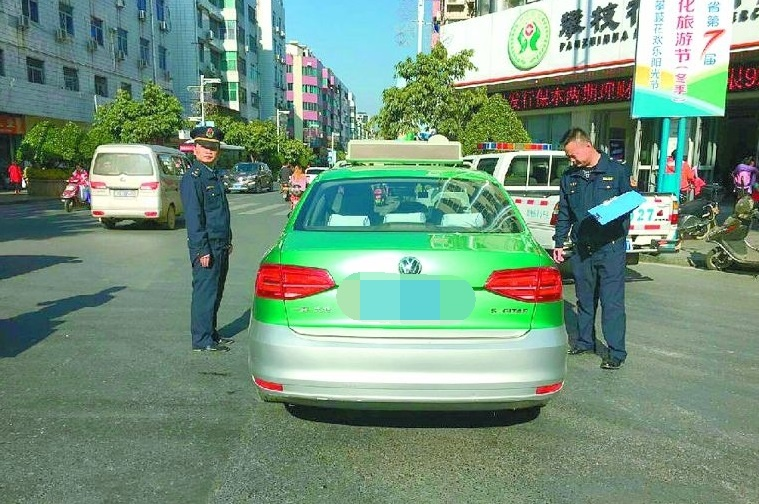bus: (88, 142, 182, 235)
taxi: (249, 145, 575, 410)
